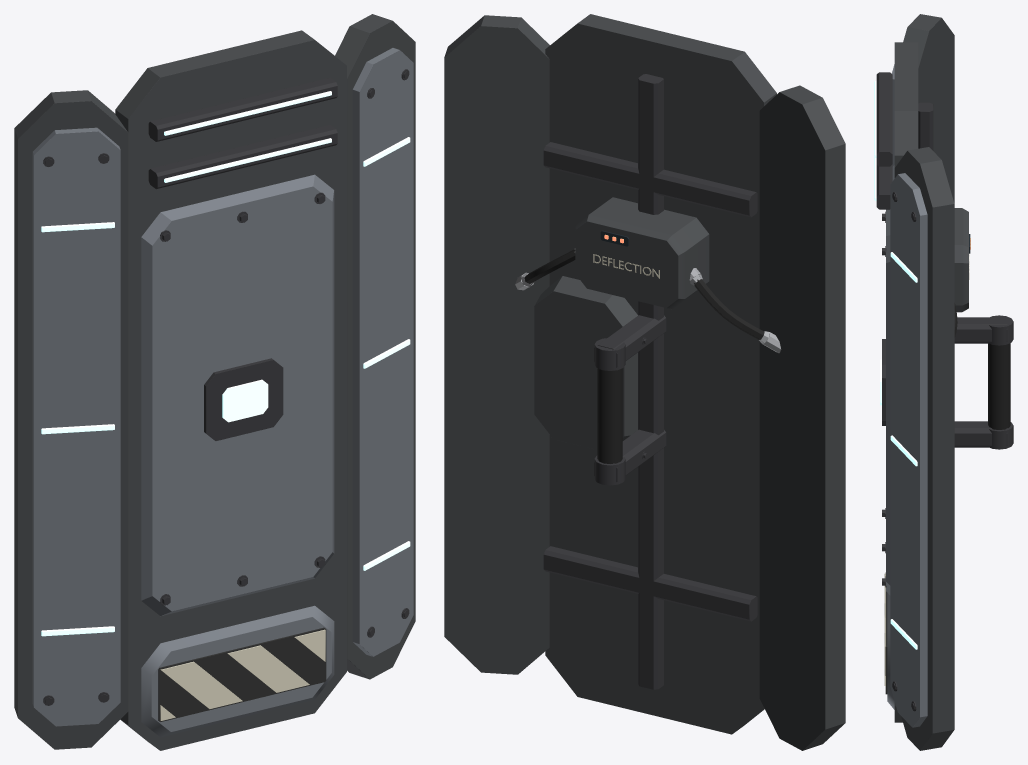
Rendered from deflection.glb.
3 renders of one model, left to right at view 1: azimuth 30°, elevation 25°; view 2: azimuth 150°, elevation 25°; view 3: azimuth 270°, elevation 25°, orthographic. The views are drawn at different scales.
Visible parts, largest first — view 1: Body; view 2: Body; view 3: Body.
Boxes of the visible parts, left/top/right/bottom form: Body: left=14, top=14, right=415, bottom=750; Body: left=444, top=14, right=845, bottom=750; Body: left=874, top=14, right=1013, bottom=750.
Bounding box in the file's own units: 0.6181 × 1 × 0.206.
